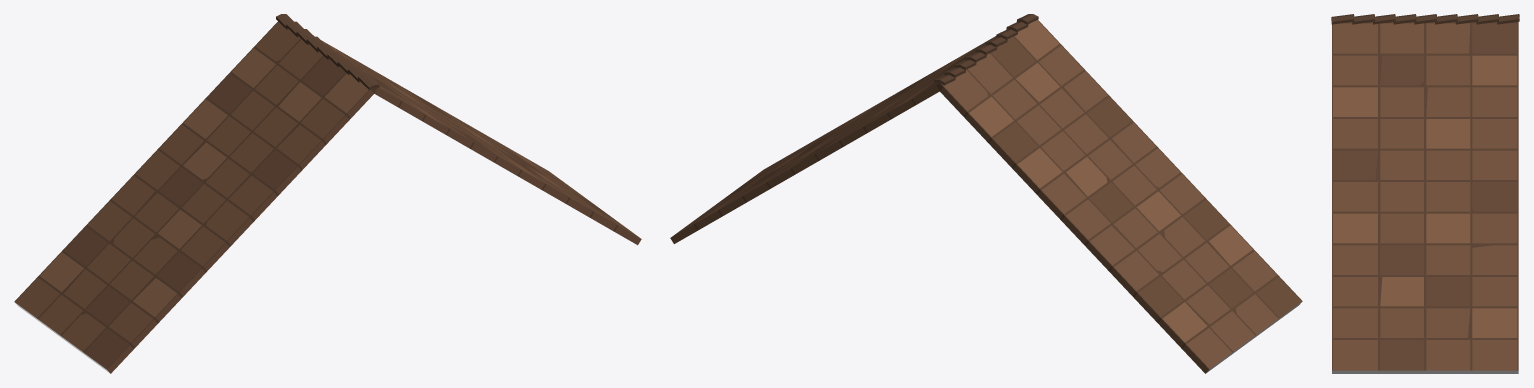
File: Roof2_C9_01.fbx
3 views of the same model, side by side, from view 1: azimuth 30°, elevation 25°; view 2: azimuth 150°, elevation 25°; view 3: azimuth 270°, elevation 25° (orthographic).
Parts seen in each view (by area): view 1: Roof2_C9_01; view 2: Roof2_C9_01; view 3: Roof2_C9_01.
Boxes of the visible parts, x1,y1,x2,y2 form: Roof2_C9_01: (14, 14, 641, 373); Roof2_C9_01: (670, 14, 1302, 373); Roof2_C9_01: (1331, 14, 1519, 373).
Size of the model in its own units: 833 by 339 by 252.
